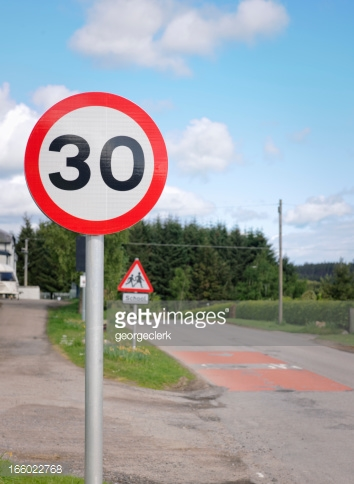Speed_limit_30km: (24, 91, 170, 236)
